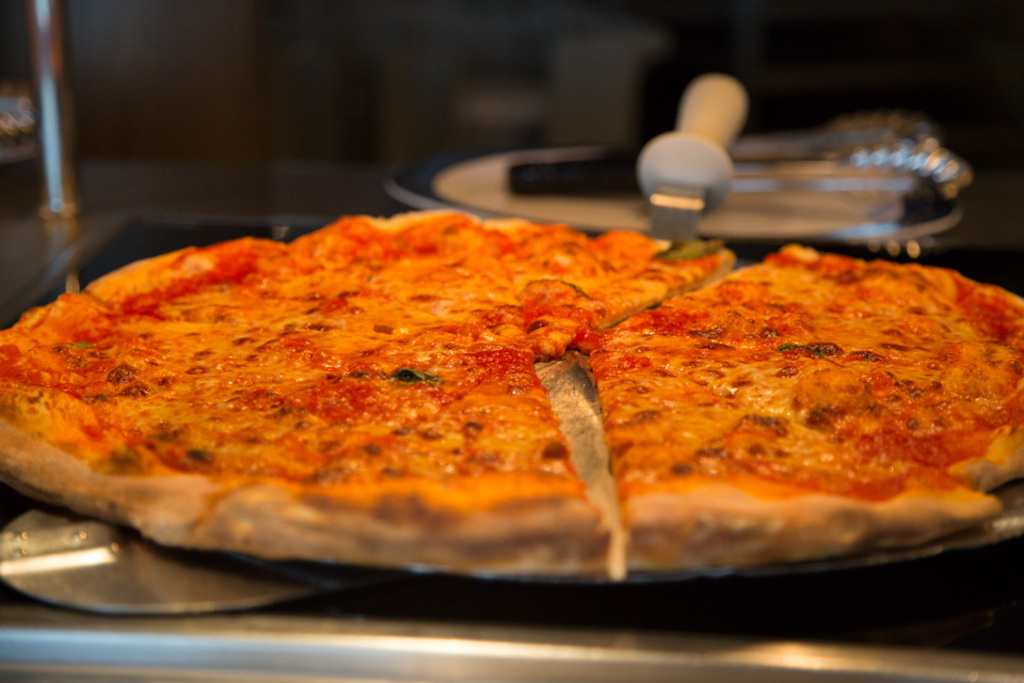Pizza: (13, 209, 1020, 606)
